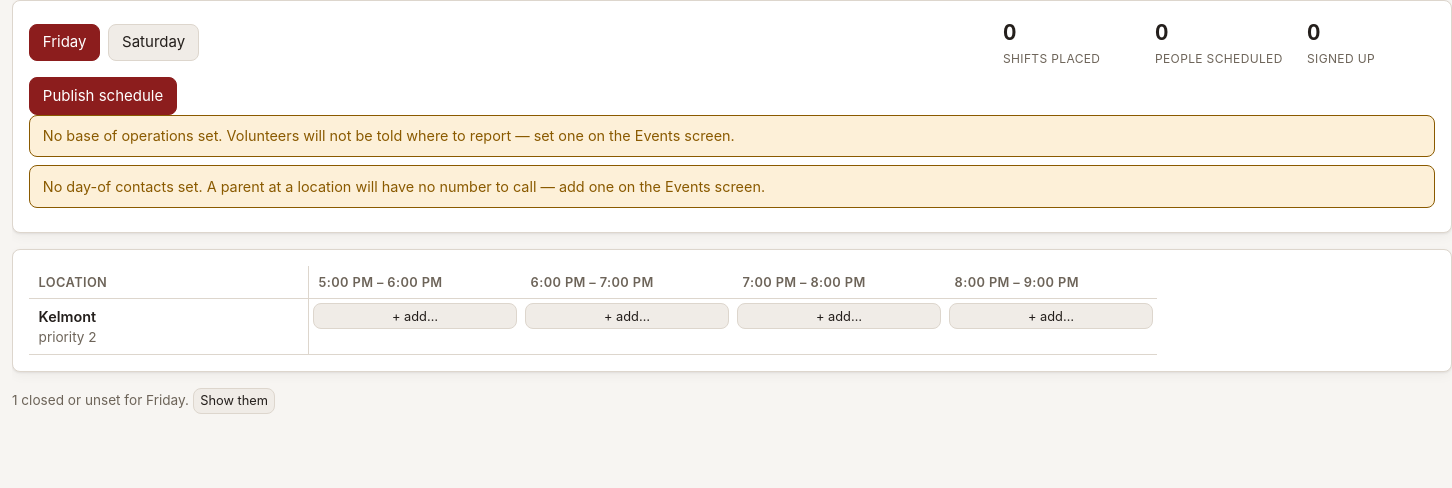
a day marked closed all day › withholds the picker for every hour of it
Click the button "Show them".
click(234, 401)  # box [193, 388, 275, 414]
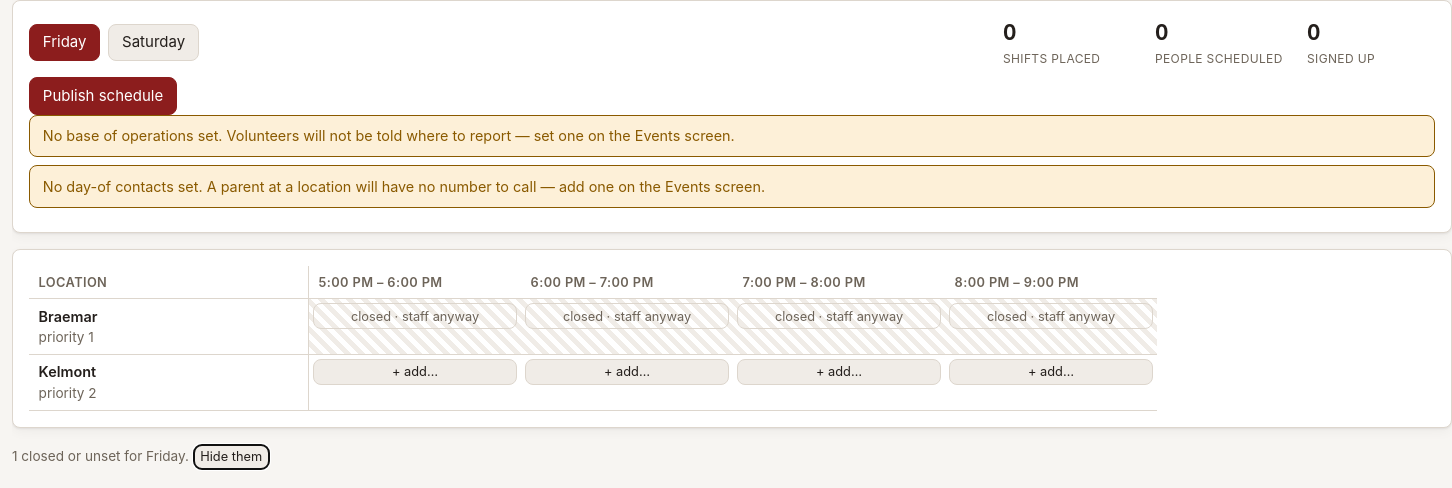
Expected: the 1st cell "closed · staff anyway" is shown, [309, 299, 521, 355]
Expected: the 2nd cell "closed · staff anyway" is shown, [521, 299, 733, 355]
Expected: the 3rd cell "closed · staff anyway" is shown, [733, 299, 945, 355]
